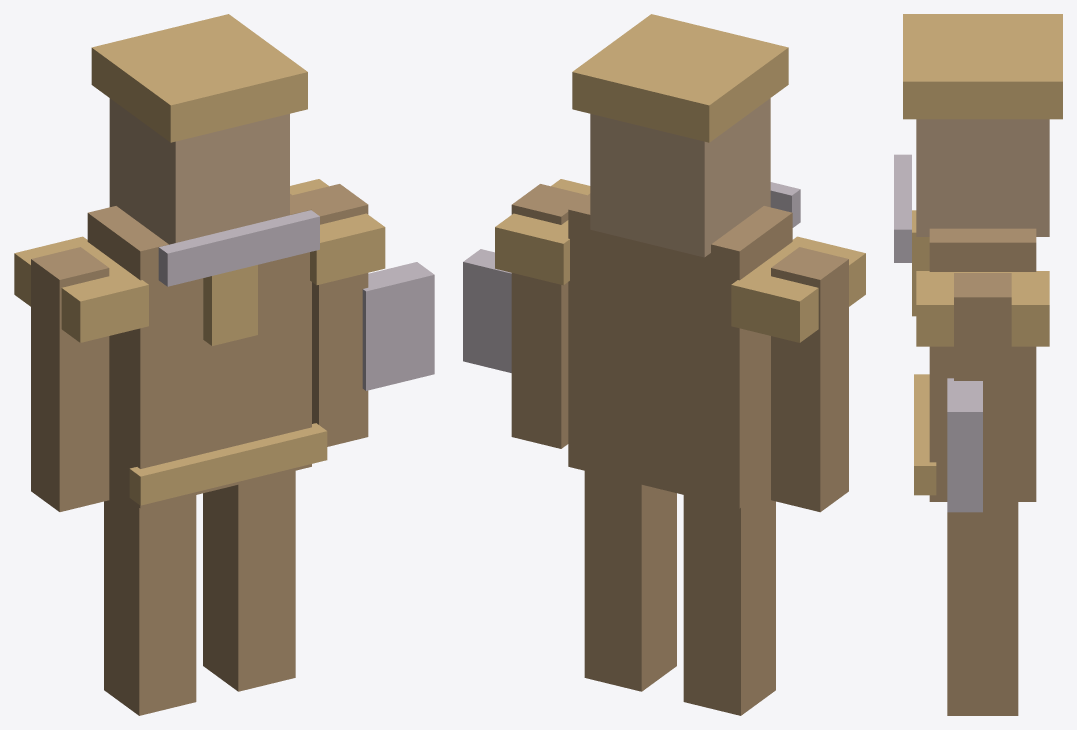
Rendered from 06_kiva_spirebound_operator_under_forkkeeper.glb.
3 views of the same model, side by side, from view 1: azimuth 30°, elevation 25°; view 2: azimuth 150°, elevation 25°; view 3: azimuth 270°, elevation 25° (orthographic).
Parts seen in each view (by area): view 1: Kiva Spirebound, Operator under Forkkeeper; view 2: Kiva Spirebound, Operator under Forkkeeper; view 3: Kiva Spirebound, Operator under Forkkeeper.
Part boxes in pixels (x1,y1,x2,y2): Kiva Spirebound, Operator under Forkkeeper: (14,14,434,715); Kiva Spirebound, Operator under Forkkeeper: (463,14,865,715); Kiva Spirebound, Operator under Forkkeeper: (894,14,1062,715).
Size of the model in its own units: 1.06 by 1.7 by 0.4116.
